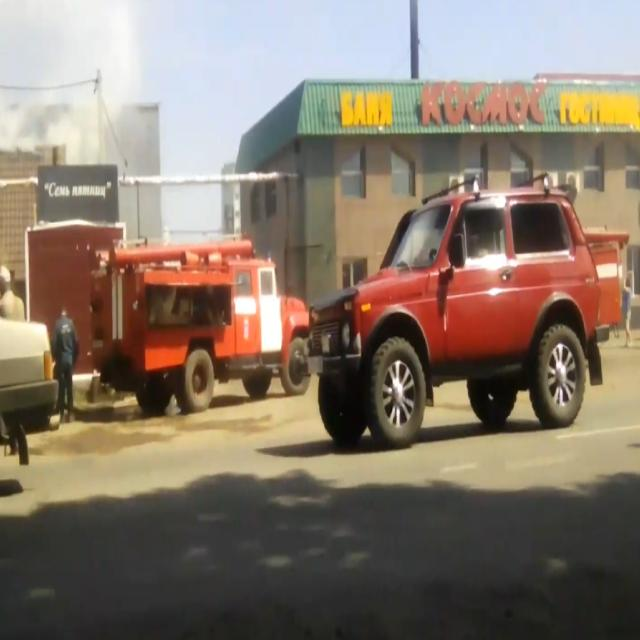fire fighting vehicle: (99, 237, 313, 416)
non emergency car: (307, 187, 599, 448)
